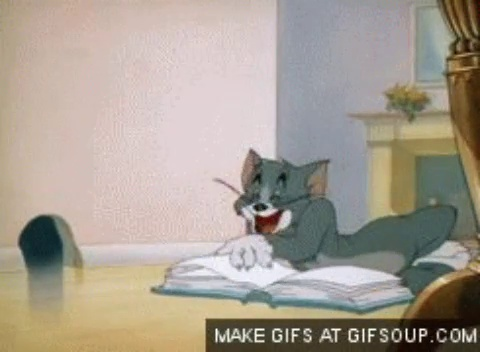tom: (213, 146, 471, 290)
